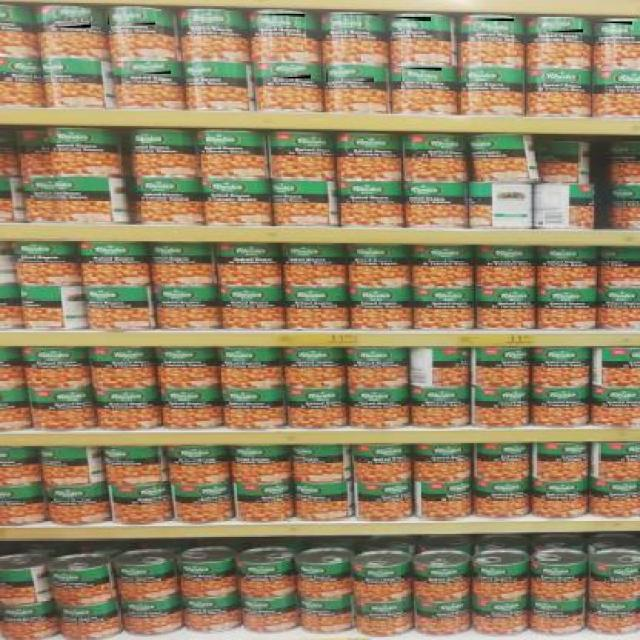Beans: (42, 8, 92, 30), (183, 12, 242, 30), (318, 14, 380, 29), (529, 18, 585, 34), (327, 66, 375, 83), (260, 65, 312, 80), (107, 11, 158, 26), (252, 14, 306, 28), (471, 18, 515, 34), (128, 60, 172, 75), (400, 68, 443, 82), (388, 17, 432, 29), (594, 21, 634, 34), (189, 65, 229, 77)
